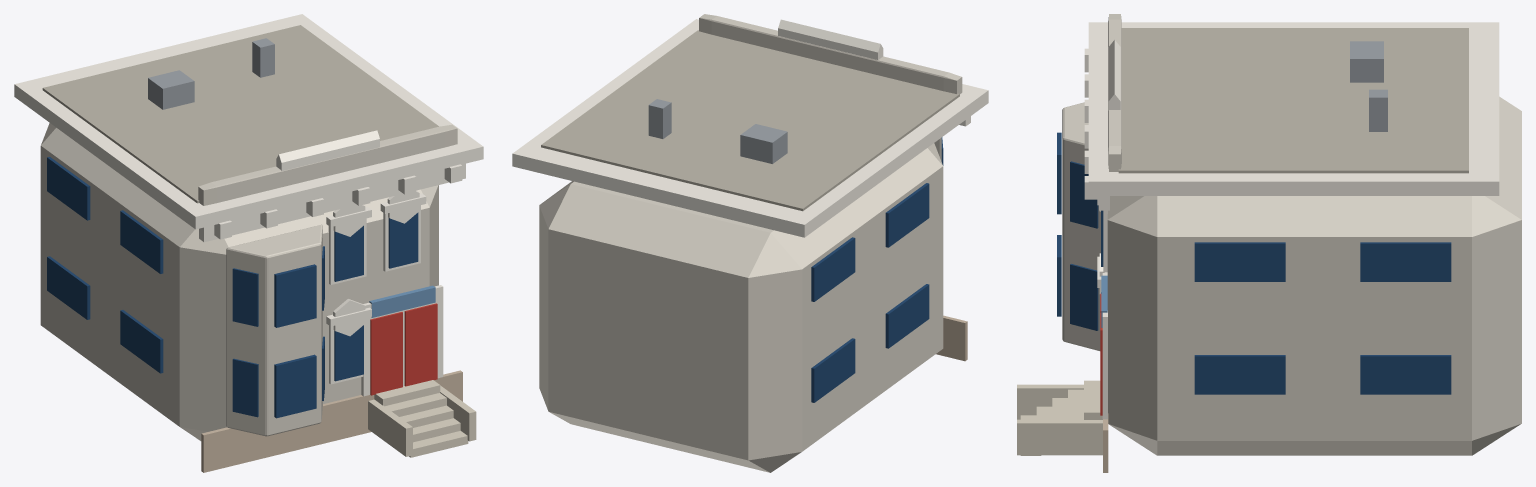
The model's file is ital_w9_bay.glb.
The picture shows the model from 3 angles, left to right: view 1: azimuth 30°, elevation 25°; view 2: azimuth 150°, elevation 25°; view 3: azimuth 270°, elevation 25°; orthographic projection. The views are drawn at different scales.
Visible parts, largest first — view 1: walls, roofslab, corn, bay, bsmt, fparapet, frieze, door.001, door, bw, bw.001, sb.006 (+26 smaller); view 2: walls, roofslab, corn, fparapet, sb, sb.002, sb.006, sb.004, hvac, bsmt, roof, pcap (+1 smaller); view 3: walls, roofslab, corn, bay, sb.001, sb.003, sb.005, sb.007, cheek.001, bwa.001, fparapet, hvac (+6 smaller).
Part boxes in pixels (x1,y1,x2,y2): walls: (40, 123, 438, 440); roofslab: (42, 25, 438, 203); corn: (14, 14, 483, 229); bay: (226, 224, 322, 436); bsmt: (201, 370, 462, 472); fparapet: (198, 124, 457, 205); frieze: (199, 163, 465, 242); door.001: (404, 303, 437, 386); door: (370, 312, 402, 395); bw: (274, 354, 316, 418); bw.001: (274, 264, 316, 327); sb.006: (47, 157, 90, 220); walls: (539, 143, 943, 472); roofslab: (541, 30, 959, 211); corn: (512, 19, 988, 237); fparapet: (699, 14, 962, 93); sb: (885, 284, 929, 348); sb.002: (811, 338, 855, 402); sb.006: (811, 237, 855, 301); sb.004: (885, 183, 929, 247); hvac: (740, 124, 787, 163); bsmt: (936, 315, 967, 361); roof: (778, 19, 883, 52); pcap: (778, 28, 883, 59); walls: (1107, 96, 1521, 455); roofslab: (1118, 28, 1468, 173); corn: (1088, 22, 1499, 195); bay: (1062, 102, 1100, 350); sb.001: (1194, 355, 1285, 394); sb.003: (1360, 355, 1451, 394); sb.005: (1194, 242, 1285, 281); sb.007: (1360, 242, 1451, 281); cheek.001: (1017, 419, 1102, 455); bwa.001: (1070, 264, 1098, 330); fparapet: (1108, 14, 1121, 171); hvac: (1350, 41, 1383, 82).
Size of the model in its own units: 10 by 9.85 by 13.4.
